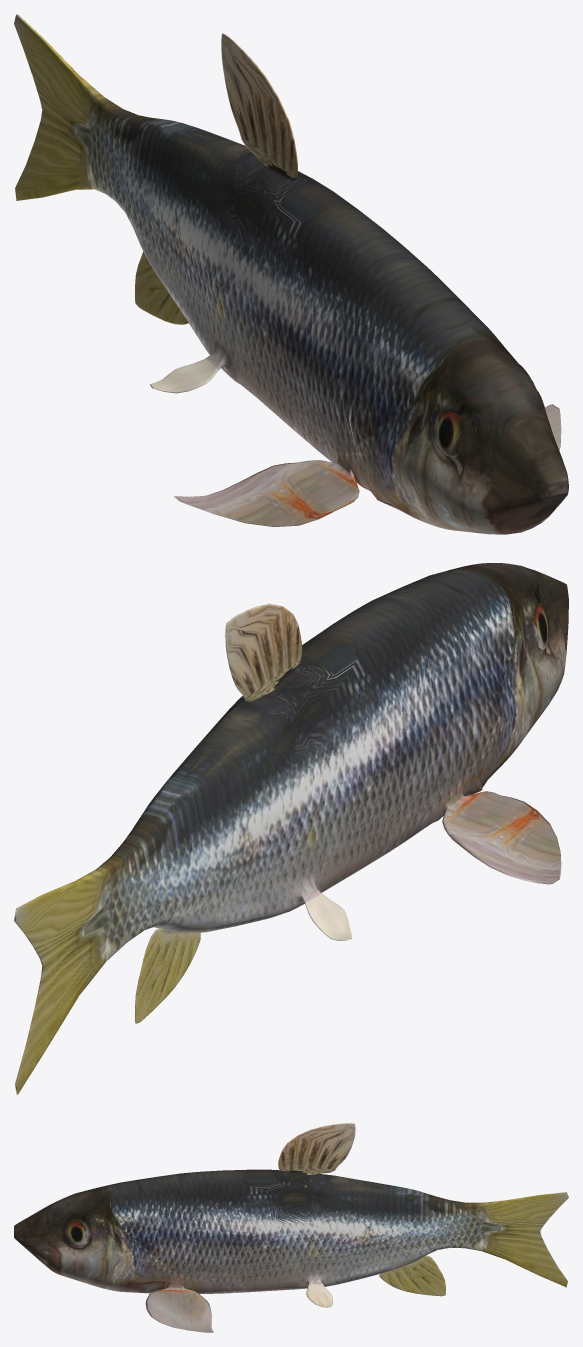
The model's file is numamutu_model.fbx.
3 renders of one model, top to bottom at view 1: azimuth 30°, elevation 25°; view 2: azimuth 150°, elevation 25°; view 3: azimuth 270°, elevation 25°, orthographic. The views are drawn at different scales.
Visible parts, largest first — view 1: pCube1; view 2: pCube1; view 3: pCube1.
Boxes of the visible parts, left/top/right/bottom form: pCube1: left=14, top=14, right=568, bottom=534; pCube1: left=14, top=563, right=568, bottom=1094; pCube1: left=14, top=1123, right=568, bottom=1332.
Bounding box in the file's own units: 7.4 × 6.28 × 18.32.
